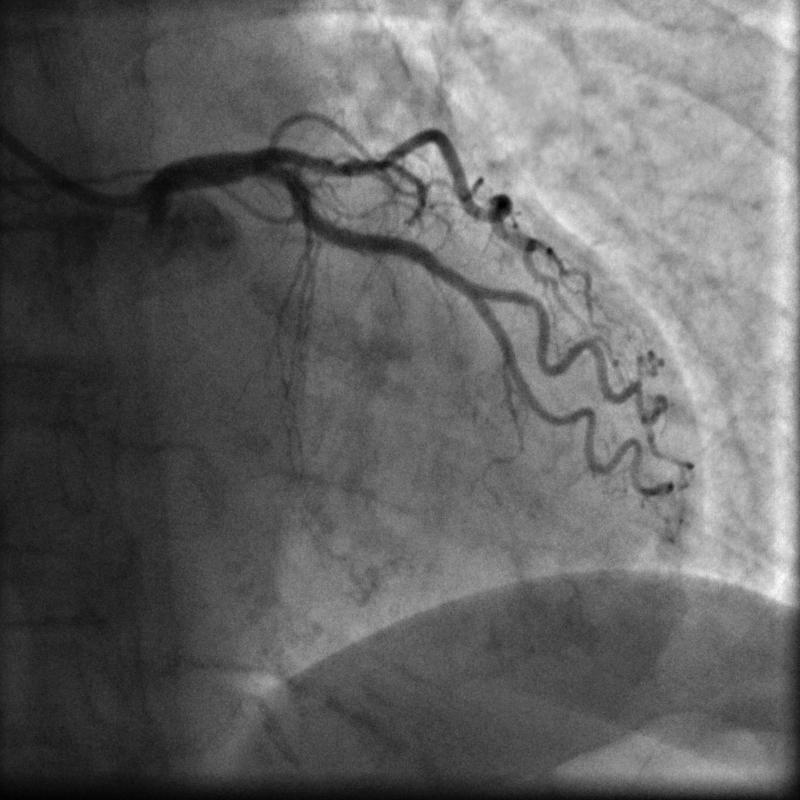Stenosis: (333, 160, 352, 180)
